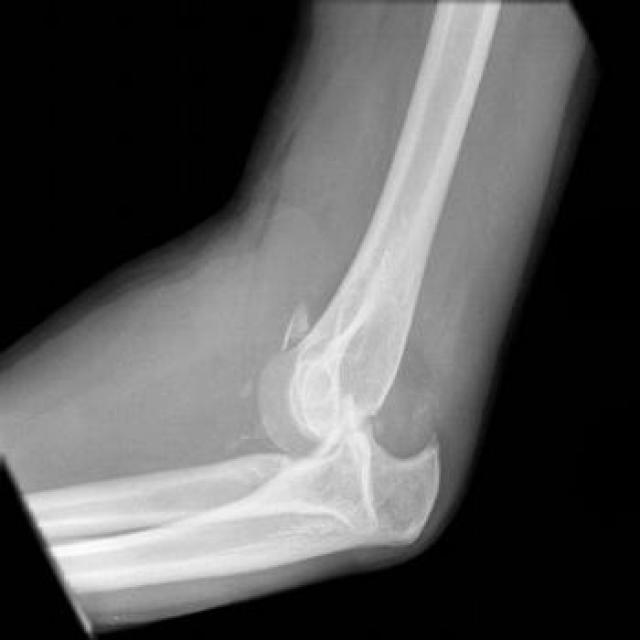fracture: (348, 390, 454, 473)
